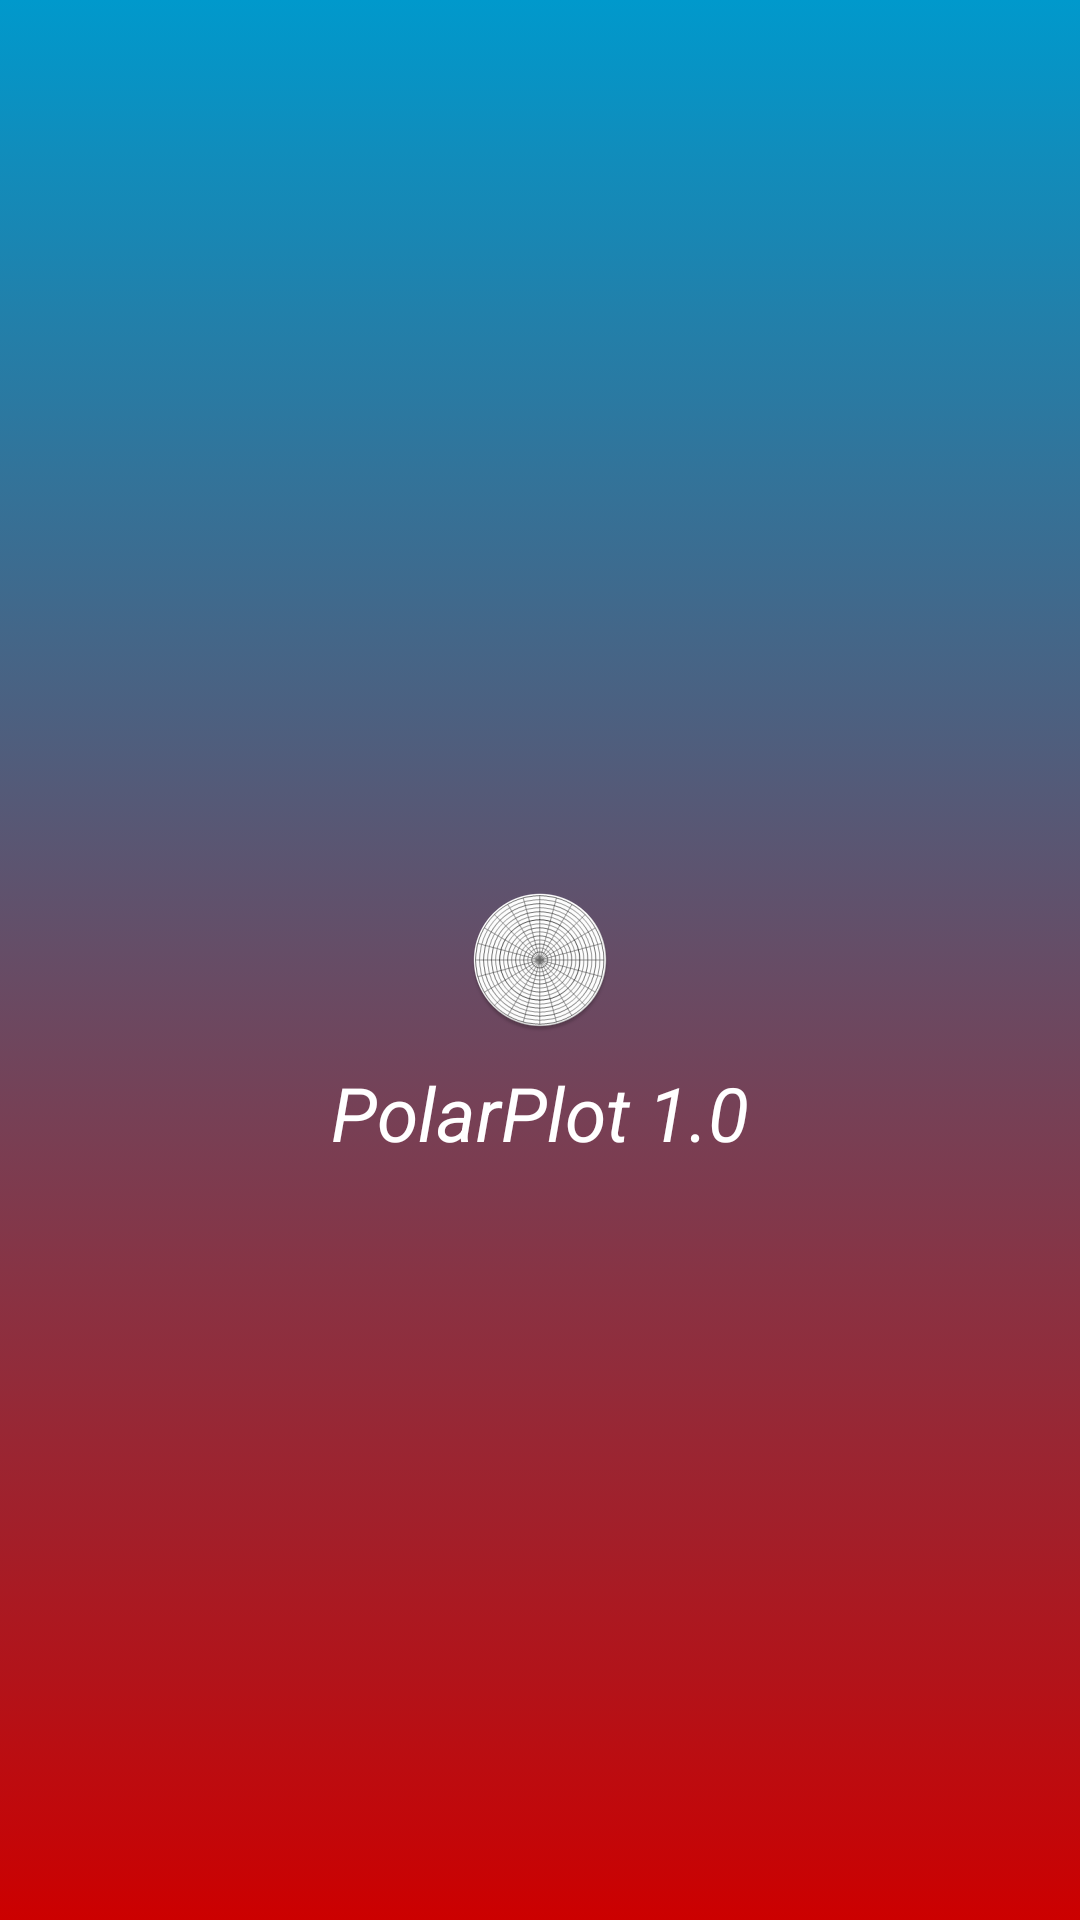

Screen size 1080 × 1920. Icon name, then its box in pixels as box(x1, y1, x2, y2):
polaricon: box(474, 893, 606, 1030)
